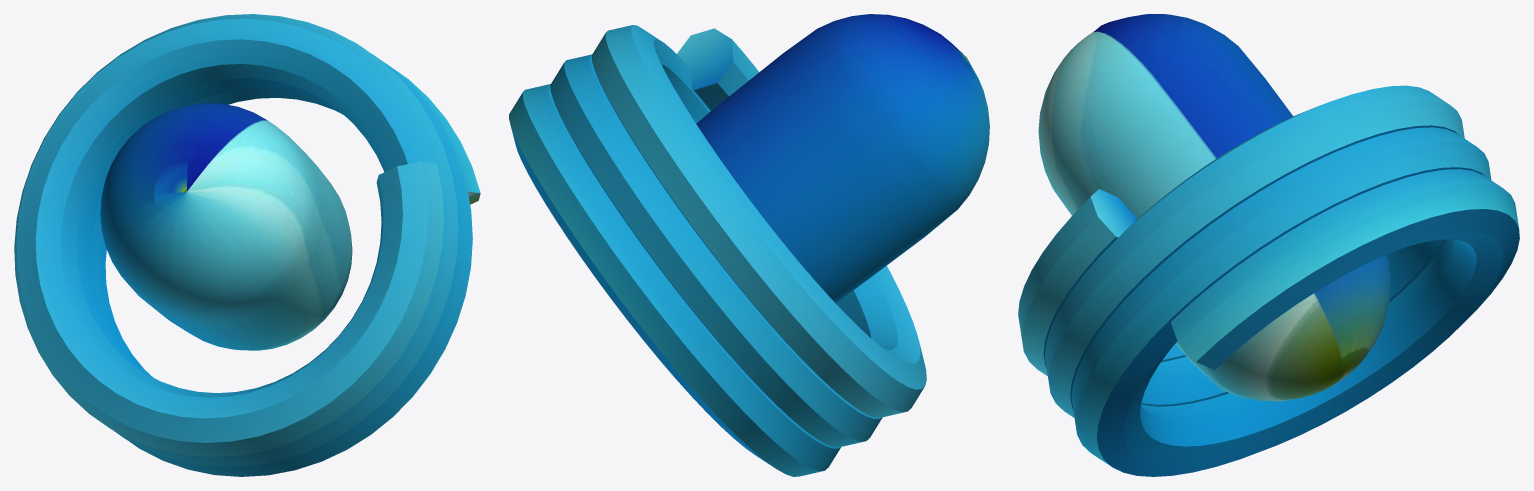
The model's file is SleepingPill.obj.
3 views of the same model, side by side, from view 1: azimuth 30°, elevation 25°; view 2: azimuth 150°, elevation 25°; view 3: azimuth 270°, elevation 25° (orthographic). The views are drawn at different scales.
Visible parts, largest first — view 1: polySurface1; view 2: polySurface1; view 3: polySurface1.
Part boxes in pixels (x1,y1,x2,y2): polySurface1: [14, 14, 480, 476]; polySurface1: [509, 14, 989, 476]; polySurface1: [1018, 14, 1519, 476].
Bounding box in the file's own units: 27.19 × 26.15 × 28.31.
1 material, 1 textured.
